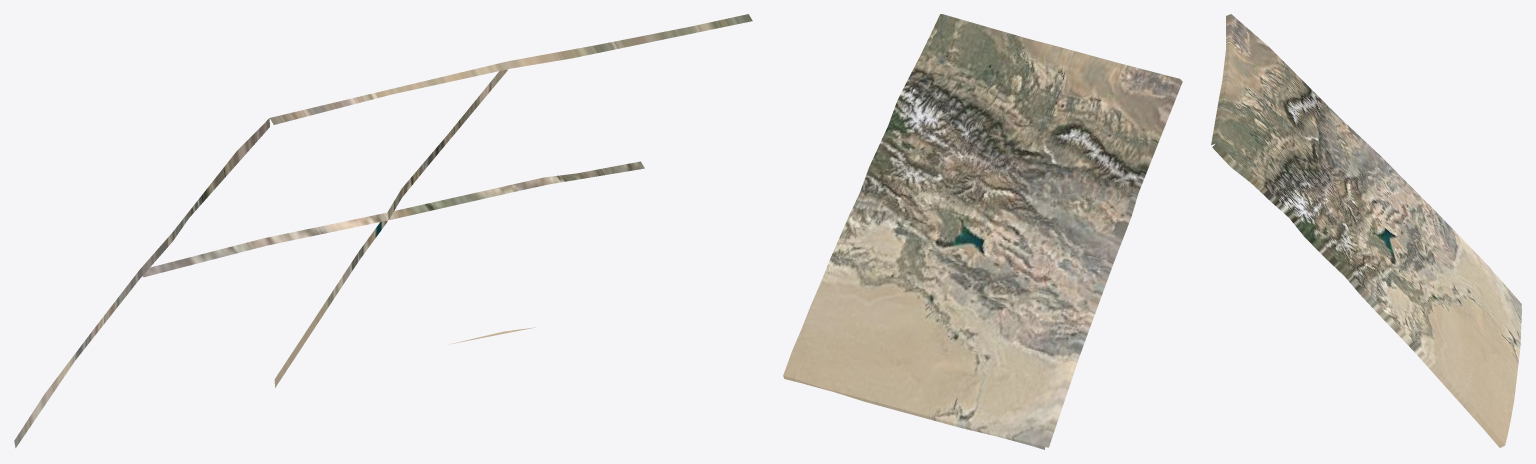
The picture shows the model from 3 angles, left to right: view 1: azimuth 30°, elevation 25°; view 2: azimuth 150°, elevation 25°; view 3: azimuth 270°, elevation 25°; orthographic projection. The views are drawn at different scales.
Size of the model in its own units: 491591 by 473255 by 451297.
1 material, 1 textured.
